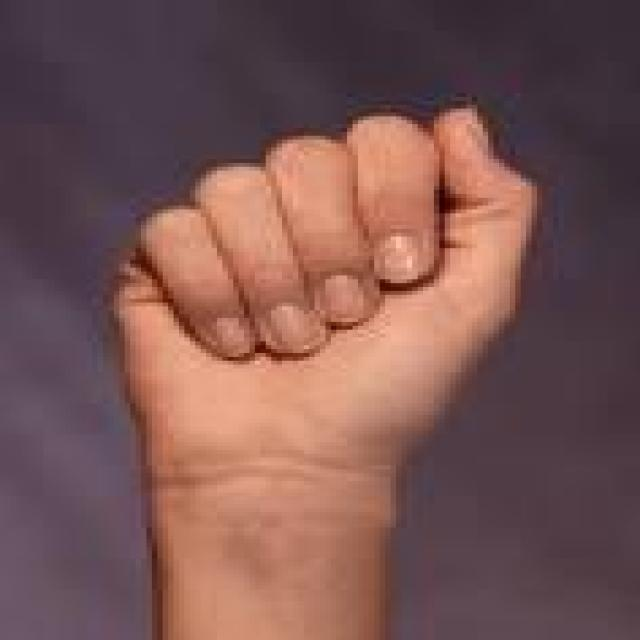A: (89, 87, 556, 491)
